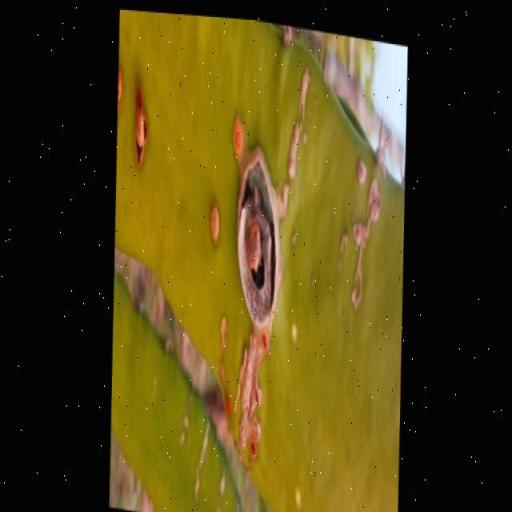stemcanker: (280, 305, 293, 334), (274, 468, 286, 496), (304, 122, 316, 141), (304, 260, 313, 280), (288, 216, 296, 238)
